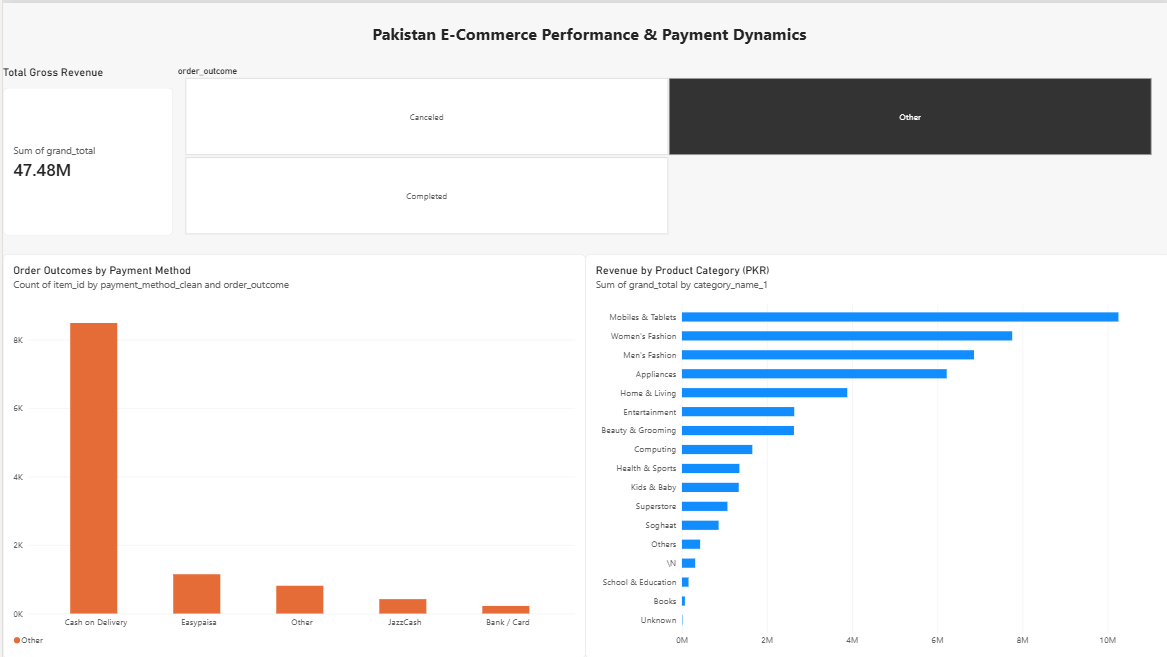

The page's visual inventory and layout, read from the dashboard file:
{"tool":"powerbi","page":{"name":"Page 1","canvas":[1920,1080],"ordinal":0},"visuals":[{"type":"cardVisual","title":"Total Gross Revenue","fields":{"Data":["Sum(cleaned_pakistan_ecommerce.grand_total)"]},"box":[0,102.9,280,280],"z":0},{"type":"clusteredColumnChart","title":"Order Outcomes by Payment Method","fields":{"Category":["cleaned_pakistan_ecommerce.payment_method_clean"],"Series":["cleaned_pakistan_ecommerce.order_outcome"],"Y":["Count(cleaned_pakistan_ecommerce.item_id)"]},"box":[0,413.7,959.2,666.9],"z":1000},{"type":"barChart","title":"Revenue by Product Category (PKR)","fields":{"Category":["cleaned_pakistan_ecommerce.category_name_1"],"Y":["Sum(cleaned_pakistan_ecommerce.grand_total)"]},"box":[959.2,413.7,961.2,666.9],"z":2000},{"type":"slicer","fields":{"Values":["cleaned_pakistan_ecommerce.order_outcome"]},"box":[279.9,102.9,1630.2,279.9],"z":3000},{"type":"textbox","box":[10.3,32.9,1910.1,70],"z":3001}]}

Visuals, with their boxes in screenshot pixels (x1, y1, x2, y2), scaled from the page's 1920x1080 canvas onto the 1167x657 screenshot:
"Total Gross Revenue" cardVisual: <region>0, 63, 170, 233</region>
"Order Outcomes by Payment Method" clusteredColumnChart: <region>0, 252, 583, 656</region>
"Revenue by Product Category (PKR)" barChart: <region>583, 252, 1166, 656</region>
slicer - cleaned_pakistan_ecommerce.order_outcome: <region>170, 63, 1161, 233</region>
textbox: <region>6, 20, 1166, 63</region>
